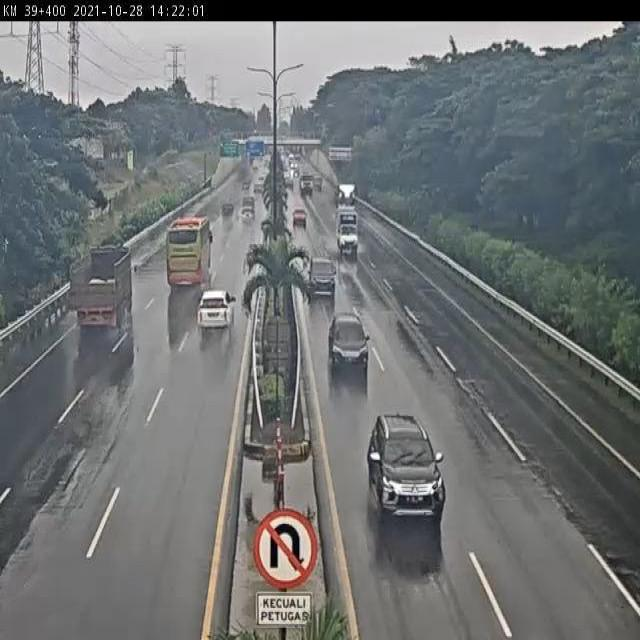big bus: (166, 215, 214, 288)
car: (364, 412, 448, 521), (328, 313, 371, 368), (195, 289, 236, 331), (304, 253, 338, 296), (238, 204, 256, 228), (292, 205, 308, 228), (220, 200, 236, 217)
truck-m-: (67, 244, 134, 333)
truck-s-: (337, 209, 360, 256)
